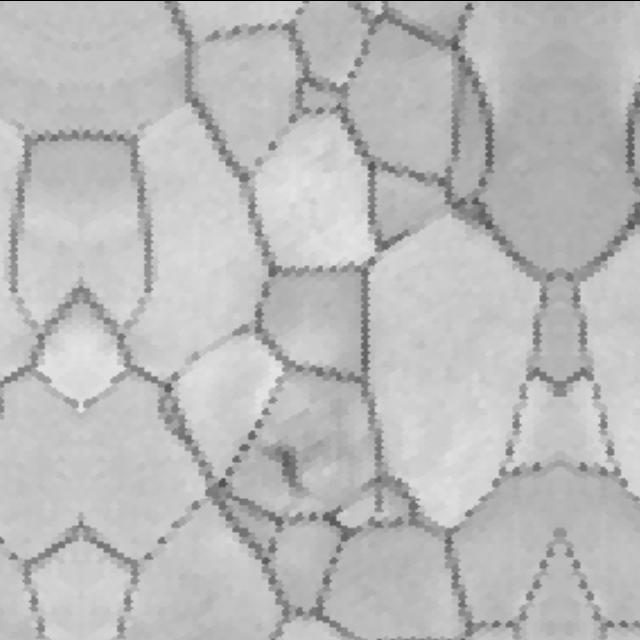good_void: (258, 438, 307, 497)
